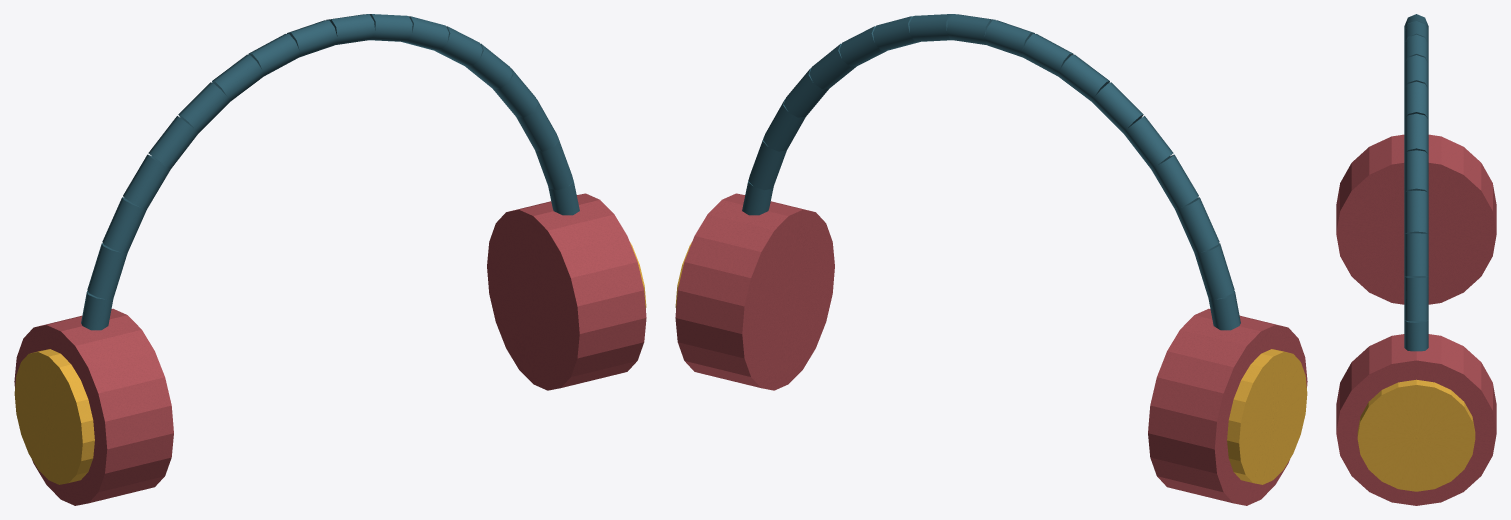
The model's file is reference_earmuffs.gltf.
The picture shows the model from 3 angles, left to right: view 1: azimuth 30°, elevation 25°; view 2: azimuth 150°, elevation 25°; view 3: azimuth 270°, elevation 25°; orthographic projection. The views are drawn at different scales.
Visible parts, largest first — view 1: Earmuffs; view 2: Earmuffs; view 3: Earmuffs.
Boxes of the visible parts, box(x1,y1,x2,y2) form: Earmuffs: box(14, 14, 646, 505); Earmuffs: box(675, 14, 1307, 505); Earmuffs: box(1336, 14, 1496, 505).
Bounding box in the file's own units: 0.582 × 0.4084 × 0.166.
Materials: 3 (3 with a texture image).
